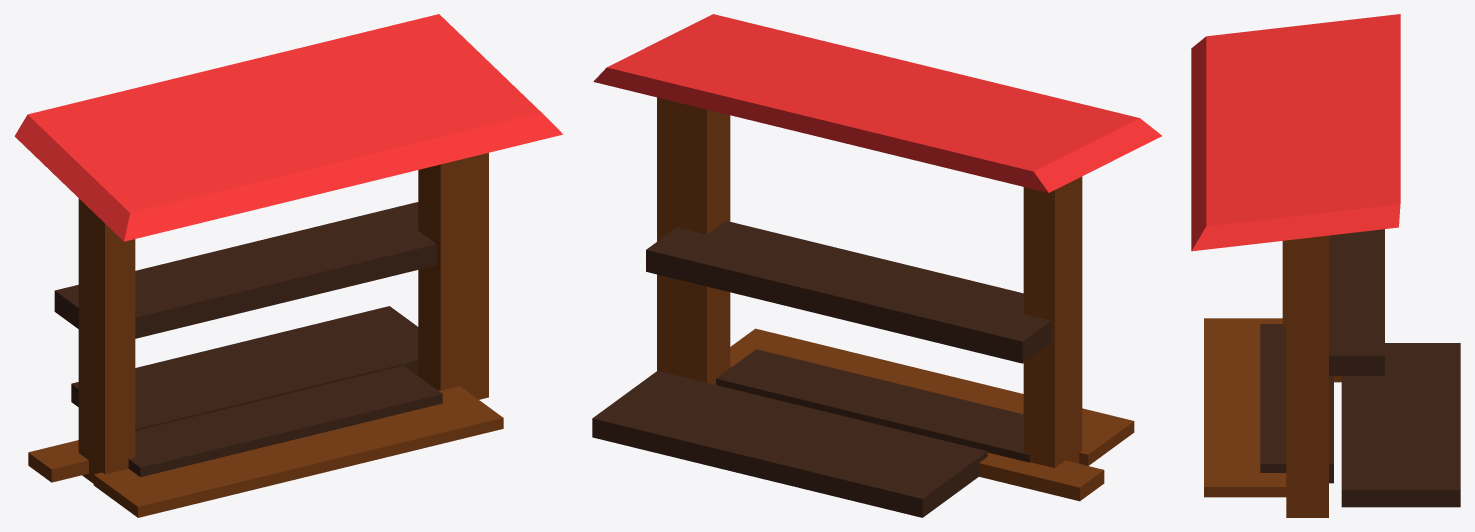
The model's file is Shop Stall.fbx.
3 renders of one model, left to right at view 1: azimuth 30°, elevation 25°; view 2: azimuth 150°, elevation 25°; view 3: azimuth 270°, elevation 25°, orthographic. The views are drawn at different scales.
Parts seen in each view (by area): view 1: Box009; view 2: Box009; view 3: Box009.
Boxes of the visible parts, box(x1,y1,x2,y2) form: Box009: box(14, 14, 562, 517); Box009: box(592, 14, 1161, 517); Box009: box(1191, 14, 1460, 517).
Bounding box in the file's own units: 45.51 × 32.72 × 25.03.
